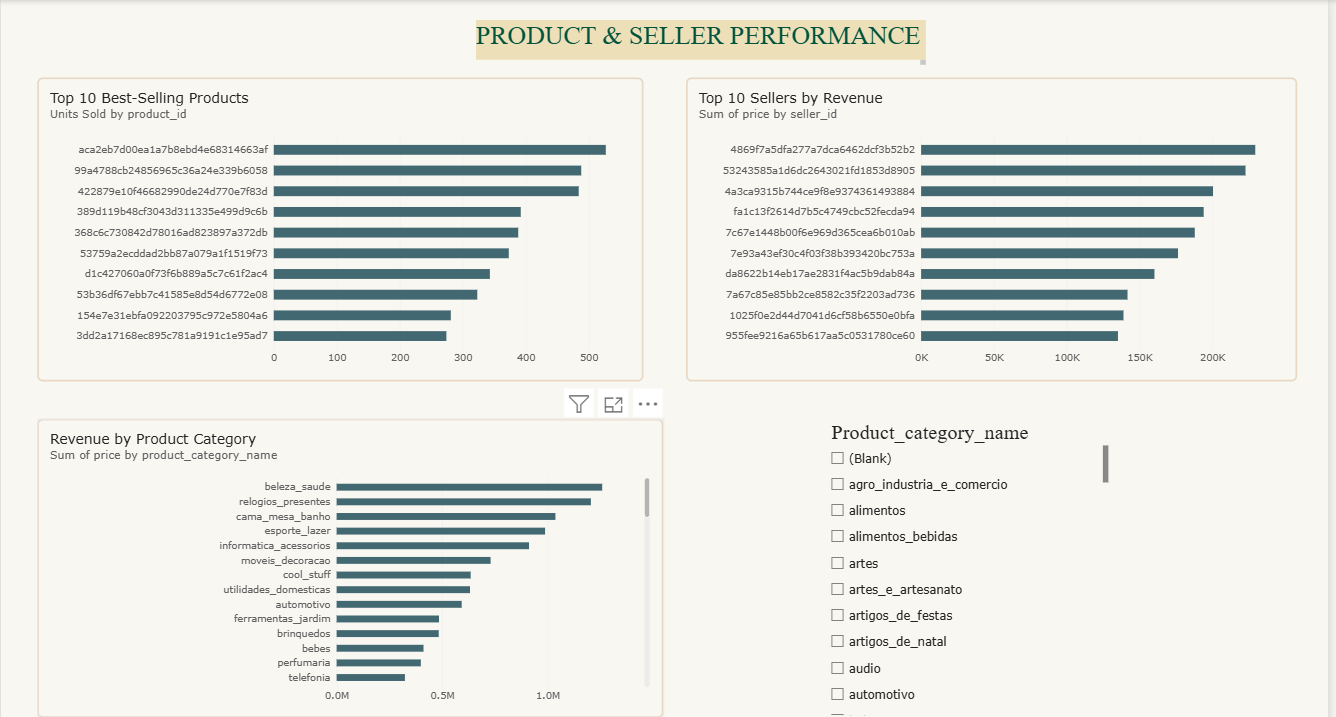

Layout of this report page (visuals, bound fields, positions):
{"tool":"powerbi","page":{"name":"Product & Seller Analysis","canvas":[1920,1080],"ordinal":1},"visuals":[{"type":"clusteredBarChart","title":"Top 10 Sellers by Revenue","fields":{"Category":["analytics fact_order_items.seller_id"],"Y":["Sum(analytics fact_order_items.price)"]},"box":[991.7,112.2,884.9,439.7],"z":0},{"type":"clusteredBarChart","title":"Top 10 Best-Selling Products","fields":{"Category":["analytics fact_order_items.product_id"],"Y":["analytics fact_order_items.Units Sold"]},"box":[52.5,112.2,877.7,439.7],"z":1},{"type":"clusteredBarChart","title":"Revenue by Product Category","fields":{"Category":["analytics dim_products.product_category_name"],"Y":["Sum(analytics fact_order_items.price)"]},"box":[52.5,606.2,906.6,434.3],"z":2},{"type":"slicer","fields":{"Values":["analytics dim_products.product_category_name"]},"box":[1194.4,608,409,428.9],"z":3},{"type":"textbox","title":"PRODUCT & SELLER PERFORMANCE","box":[687.7,29,651.5,65.1],"z":4}]}

Visuals, with their boxes on the page's 1920x1080 design canvas (x1, y1, x2, y2). These are canvas units, not pixel positions in the 1336x717 screenshot, which may show the page scaled, cropped or inside an application window:
"Top 10 Sellers by Revenue" clusteredBarChart: bbox(992, 112, 1877, 552)
"Top 10 Best-Selling Products" clusteredBarChart: bbox(52, 112, 930, 552)
"Revenue by Product Category" clusteredBarChart: bbox(52, 606, 959, 1040)
slicer - analytics dim_products.product_category_name: bbox(1194, 608, 1603, 1037)
"PRODUCT & SELLER PERFORMANCE" textbox: bbox(688, 29, 1339, 94)
